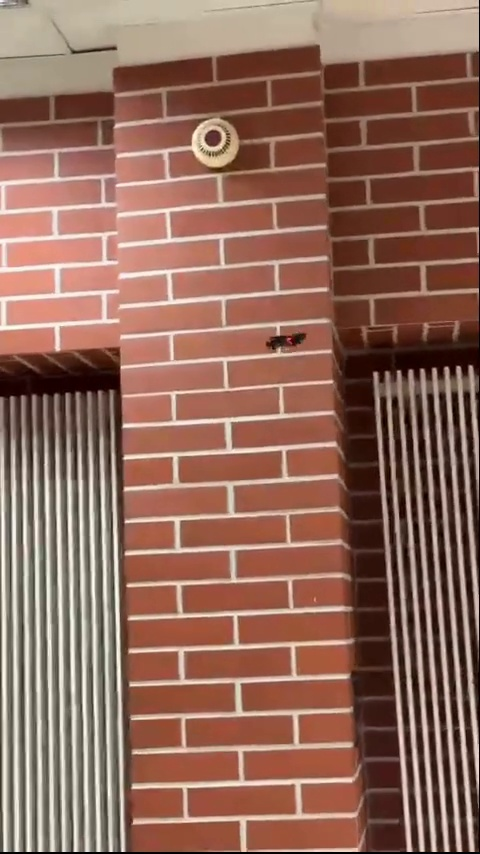drone: (266, 333, 307, 349)
